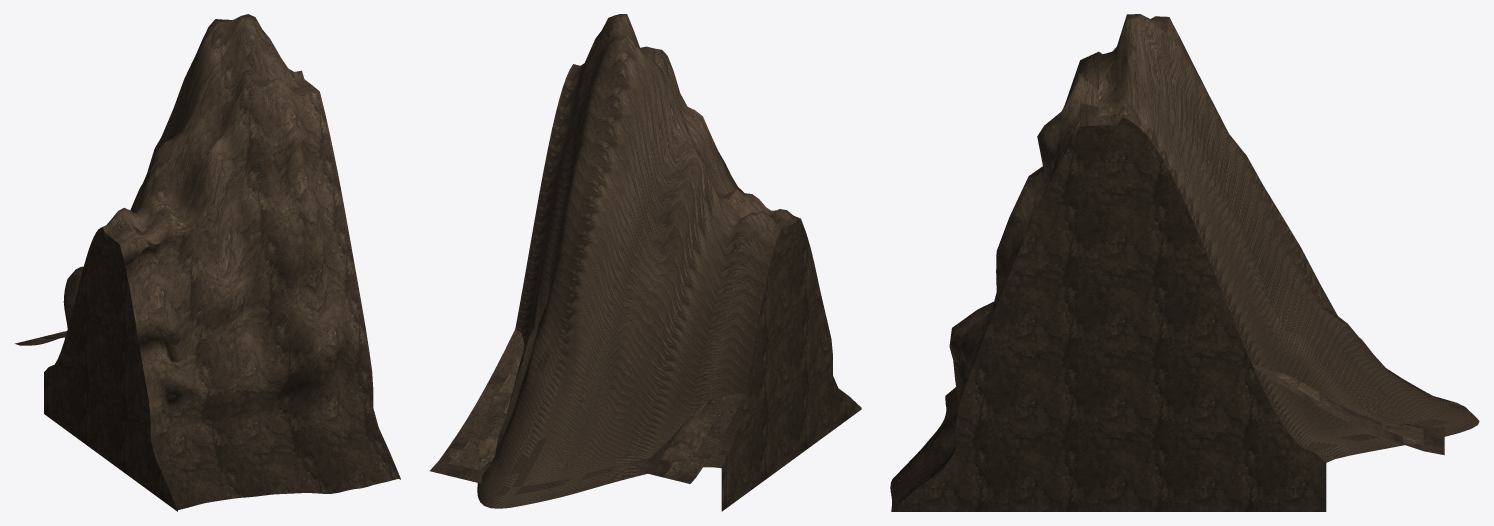
The model's file is seacliff_step_h5h8_v5_dead.glb.
The picture shows the model from 3 angles, left to right: view 1: azimuth 30°, elevation 25°; view 2: azimuth 150°, elevation 25°; view 3: azimuth 270°, elevation 25°; orthographic projection. The views are drawn at different scales.
Visible parts, largest first — view 1: seacliff_step_h5h8; view 2: seacliff_step_h5h8; view 3: seacliff_step_h5h8.
Part boxes in pixels (box(x1,y1,x2,y2)): seacliff_step_h5h8: box(14, 14, 400, 511); seacliff_step_h5h8: box(430, 14, 861, 511); seacliff_step_h5h8: box(890, 14, 1479, 511).
Size of the model in its own units: 6 by 11.48 by 13.09.
Materials: 2 (2 with a texture image).
